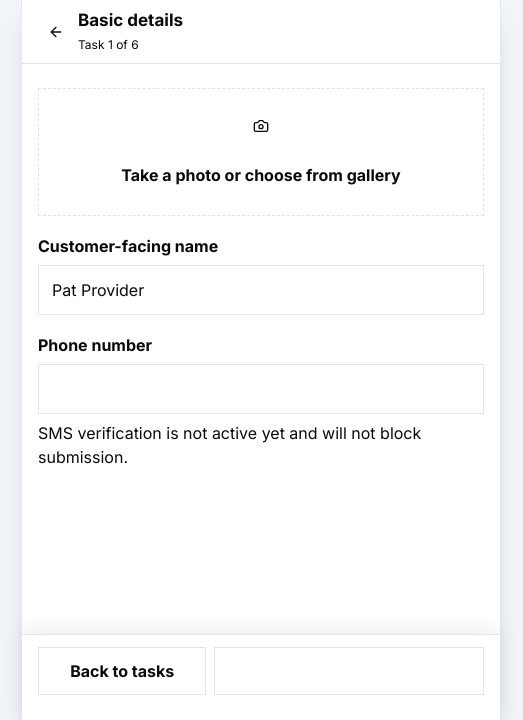
it: Phase 4 — a blocked exit offers a recovery a keyboard can reach › a conflict offers Reload rather than a Retry that could only fail again
Step 1. Replace the text in the field with test id "field-displayName" with "Will not save" → (261, 290), box left=38, top=265, right=484, bottom=315
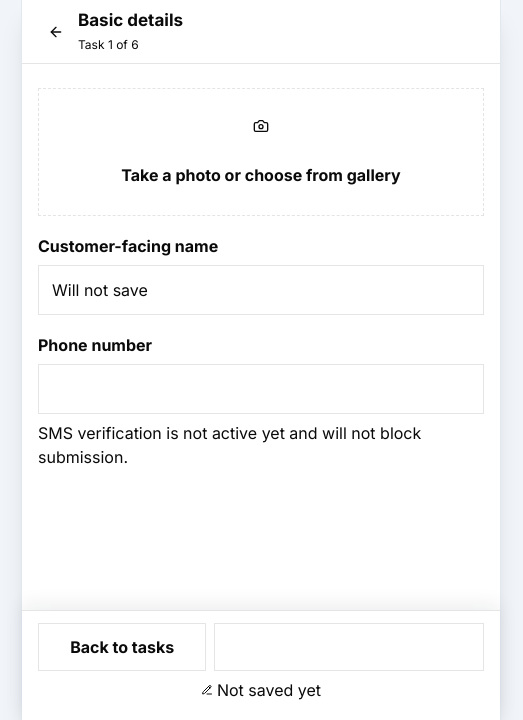
Step 2. Click the button with test id "onboarding-v2-close" → (56, 32), box left=34, top=10, right=78, bottom=54
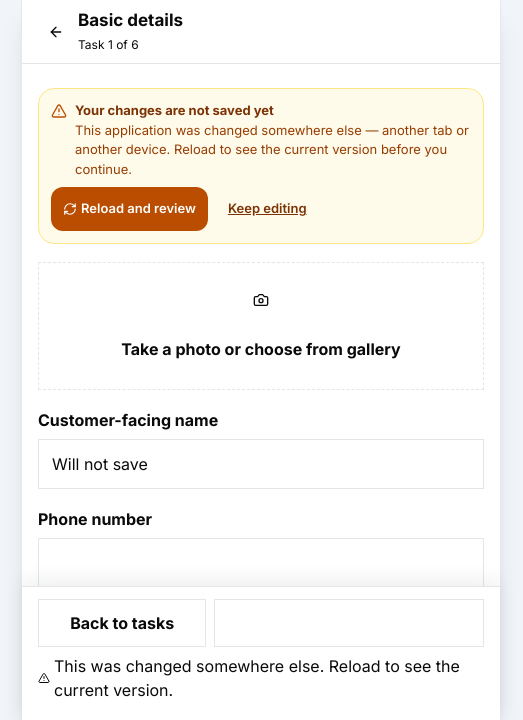
Result: the button "Reload and review" is shown at left=51, top=187, right=208, bottom=231
